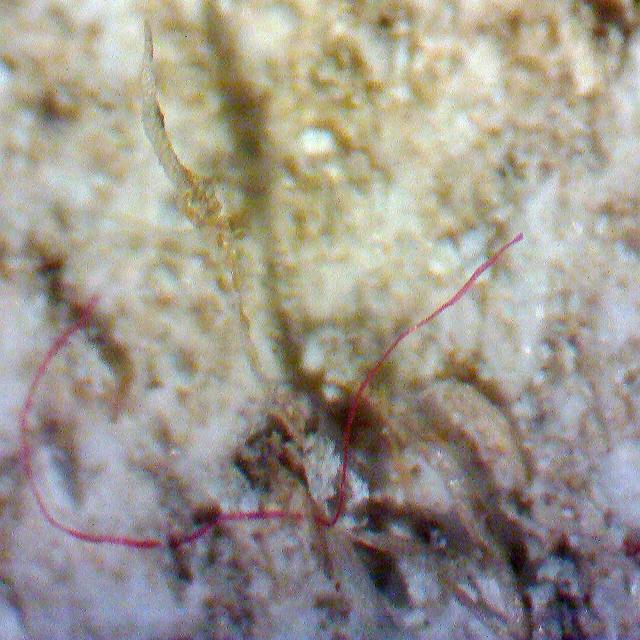microplastic: (22, 232, 523, 548)
